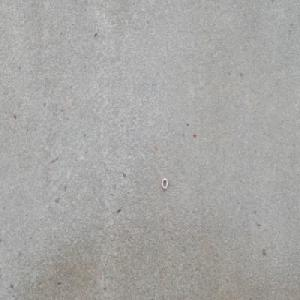Nut: (161, 177, 168, 190)
